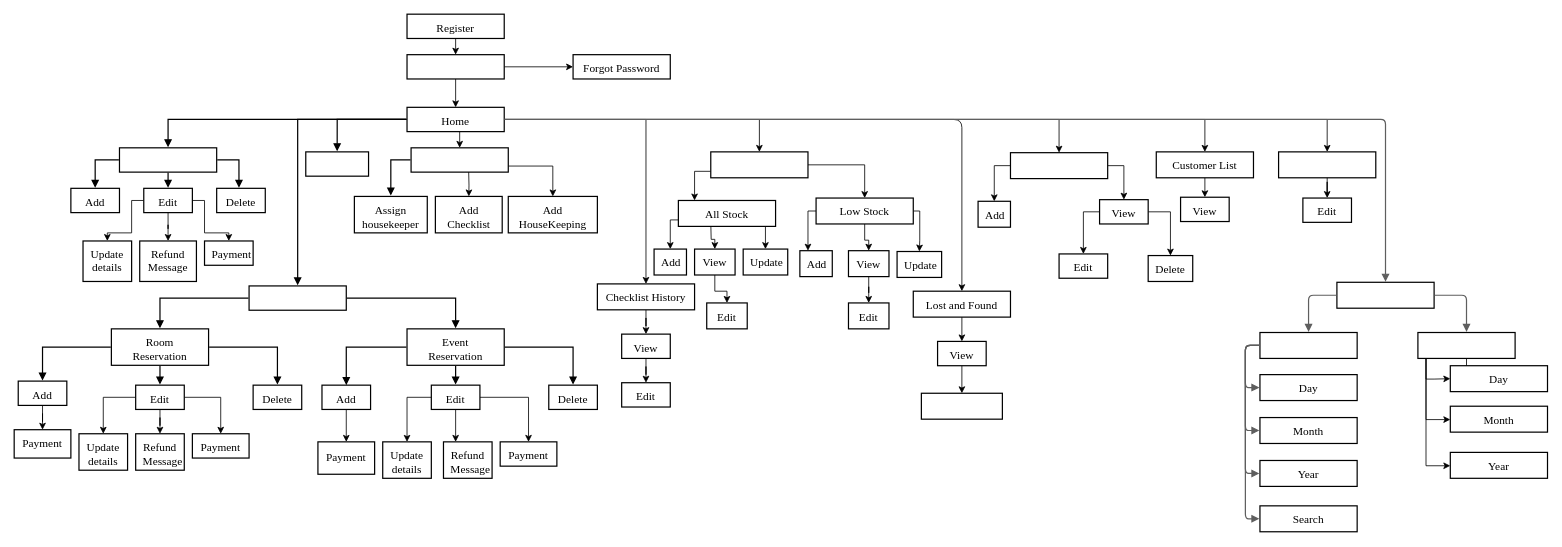
This 1562x547 diagram has some shape labels left out. Here are the shapes that lost their labels. From the top down, the box of each, then its label:
(406, 54, 504, 79): Log In
(119, 147, 217, 172): Check-in
(305, 151, 369, 176): Check-out
(410, 147, 509, 172): HouseKeeping
(710, 151, 808, 178): Inventory
(1010, 152, 1108, 179): Staff List
(1278, 151, 1376, 178): Profile
(248, 285, 347, 310): Reservation
(1336, 281, 1434, 308): Report
(1259, 332, 1357, 359): Sales
(1417, 332, 1515, 359): Reservations
(920, 392, 1003, 419): Update Status
